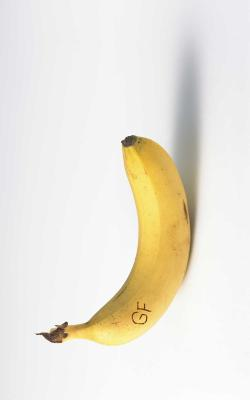banana: (0, 0, 250, 400)
